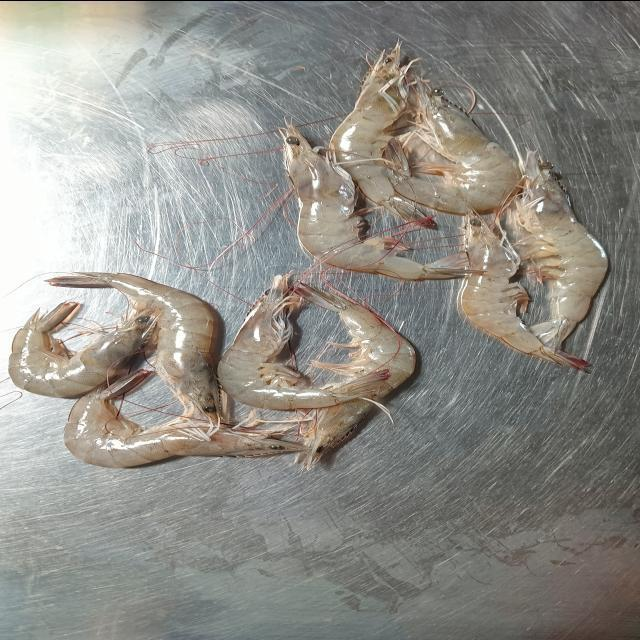shrimp: (279, 124, 467, 280), (49, 271, 221, 421), (64, 370, 308, 468), (217, 274, 390, 409), (458, 214, 589, 369), (507, 151, 607, 348), (390, 89, 520, 214), (330, 46, 421, 220), (9, 301, 155, 398), (297, 284, 416, 399), (303, 398, 374, 468)
